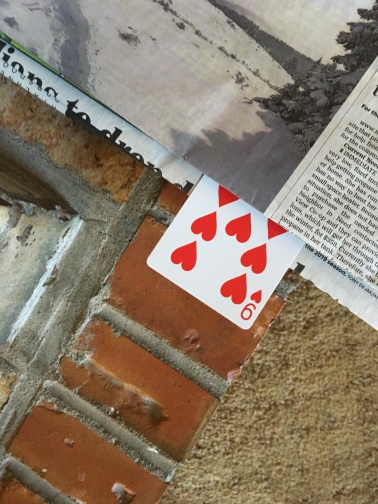nine: (146, 171, 304, 331)
